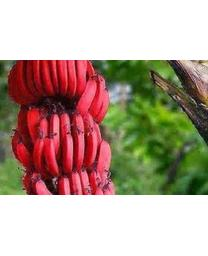banana: (7, 62, 118, 194)
